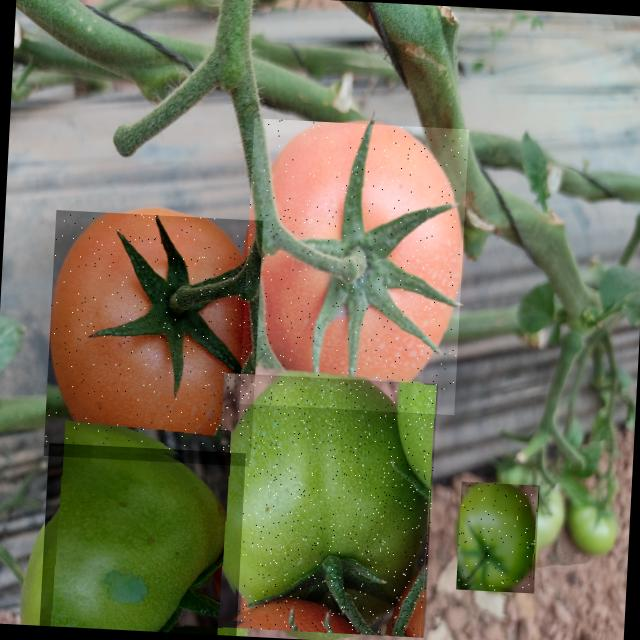Ripe Tomato: (240, 118, 470, 416), (44, 210, 264, 467)
Unripe Tomato: (211, 373, 438, 638), (40, 443, 246, 636), (456, 482, 540, 594)
